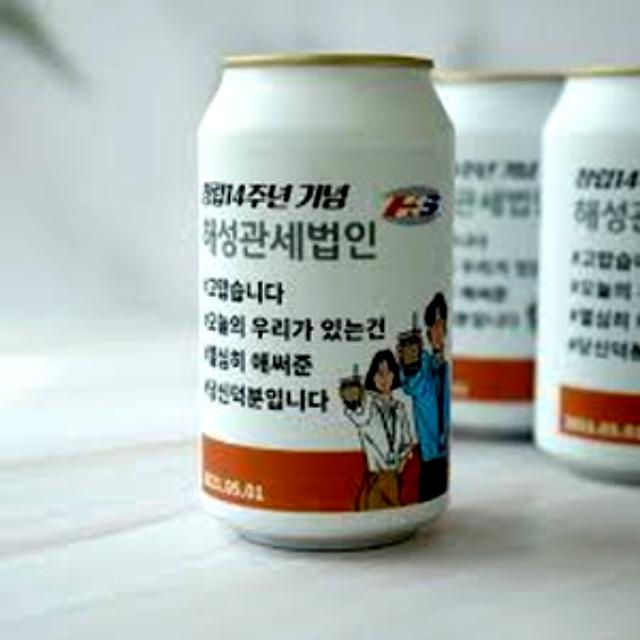Metal: (194, 51, 451, 555), (538, 59, 640, 488)
